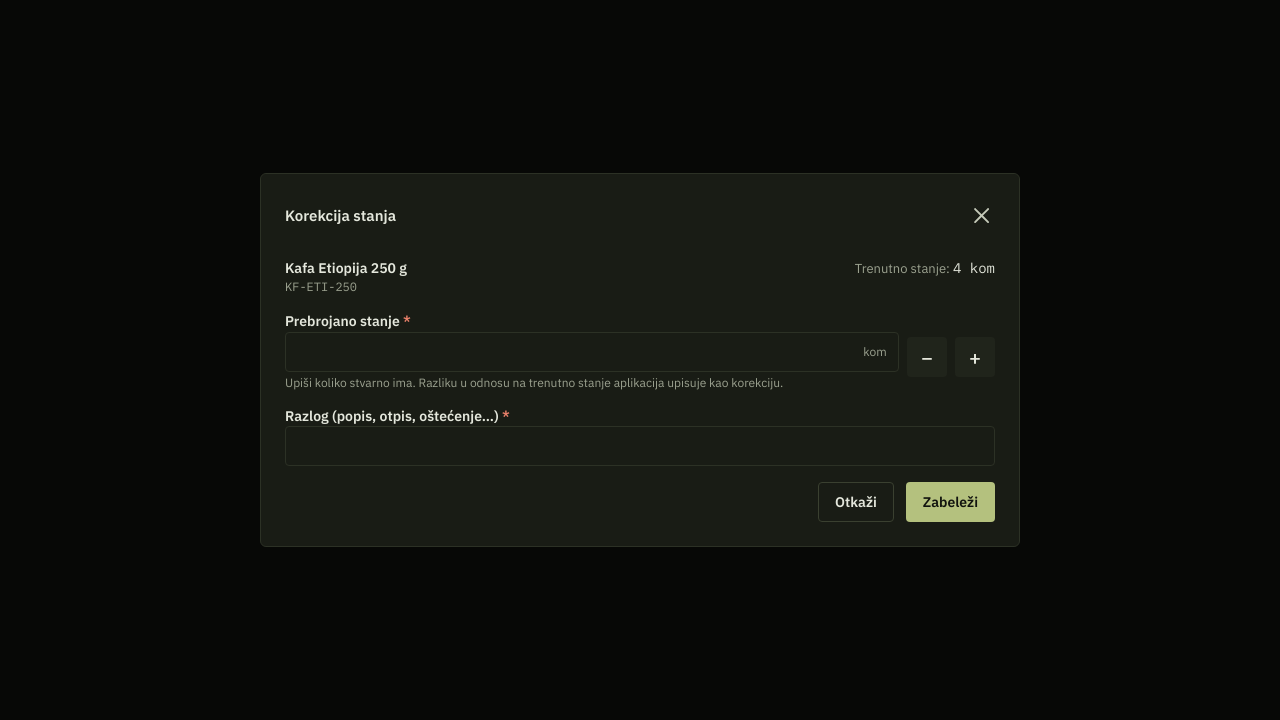
MovementModal › Submit_CountWithoutReason_ShowsApiErrorUnderNote
Type "7" into the field labelled "Prebrojano stanje *" at {"x": 592, "y": 352}, box 285,332 -> 899,372
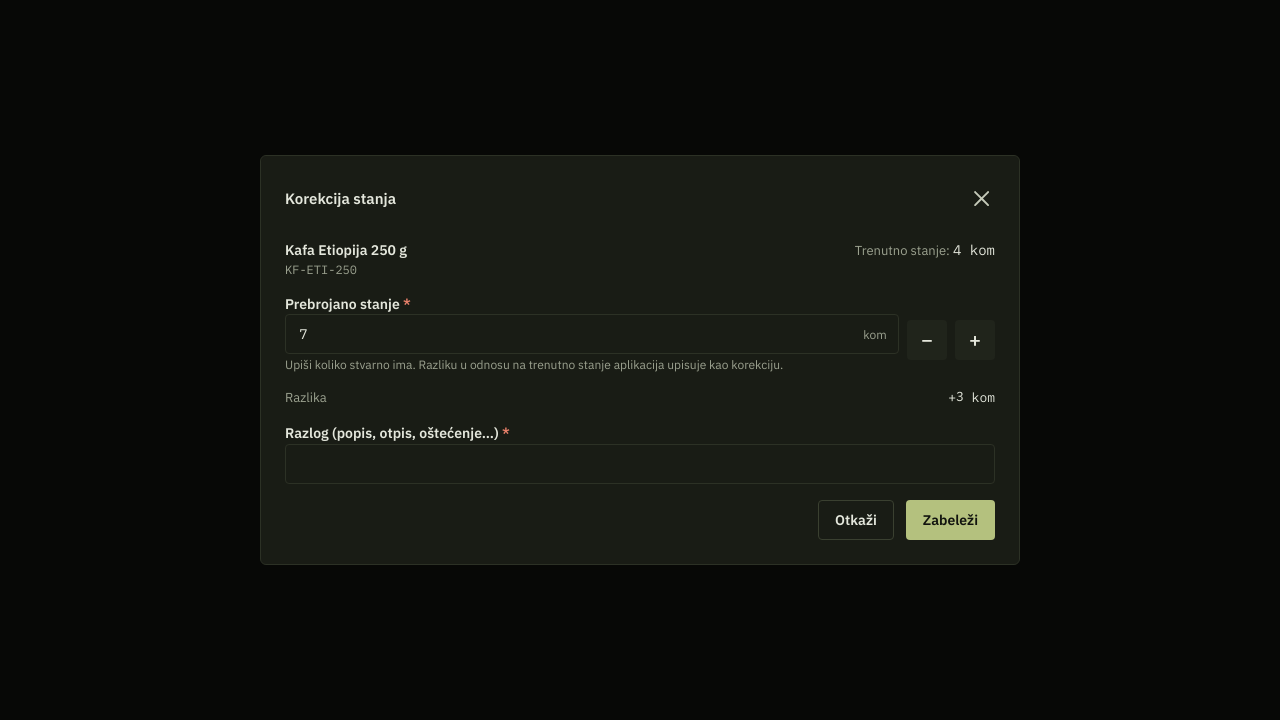
Click the button "Zabeleži" at {"x": 950, "y": 520}, box 906,500 -> 995,540
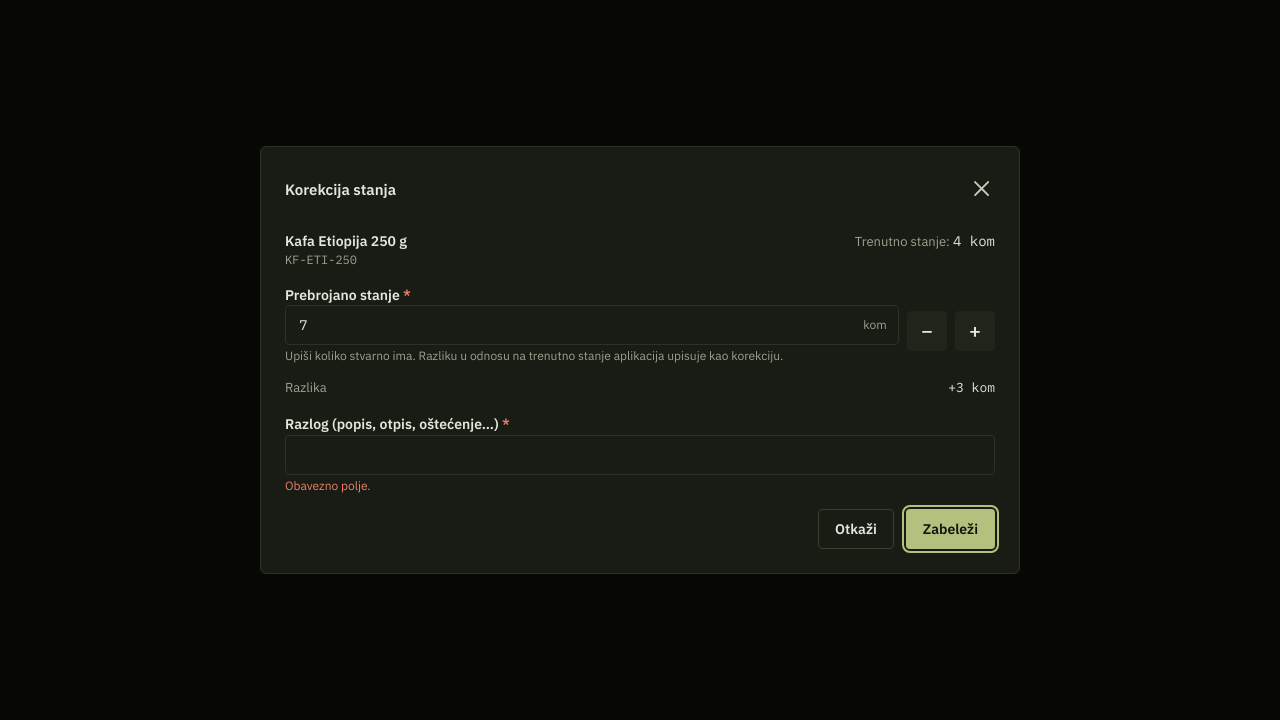
Check: the text "Obavezno polje." is shown, box 285,478 -> 371,493
